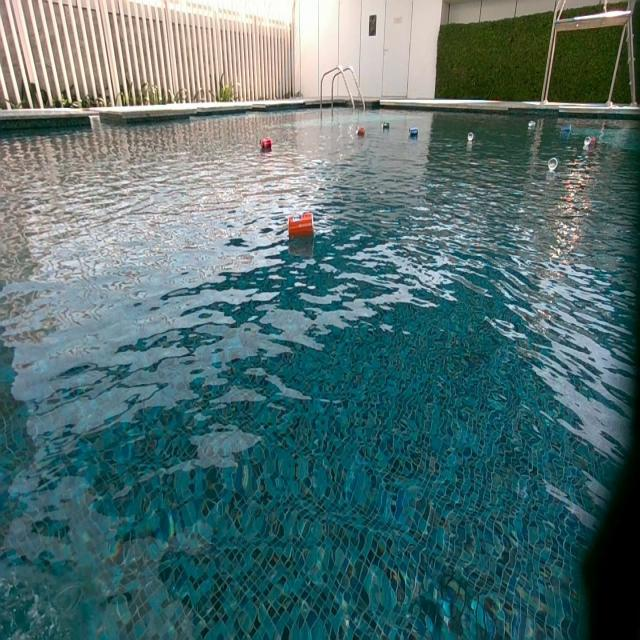Cans: (287, 214, 313, 239), (261, 138, 274, 152), (585, 136, 597, 148), (549, 158, 558, 173), (409, 128, 420, 140), (356, 127, 365, 139), (467, 130, 476, 142), (560, 125, 572, 134), (382, 120, 390, 130), (528, 119, 536, 128)
